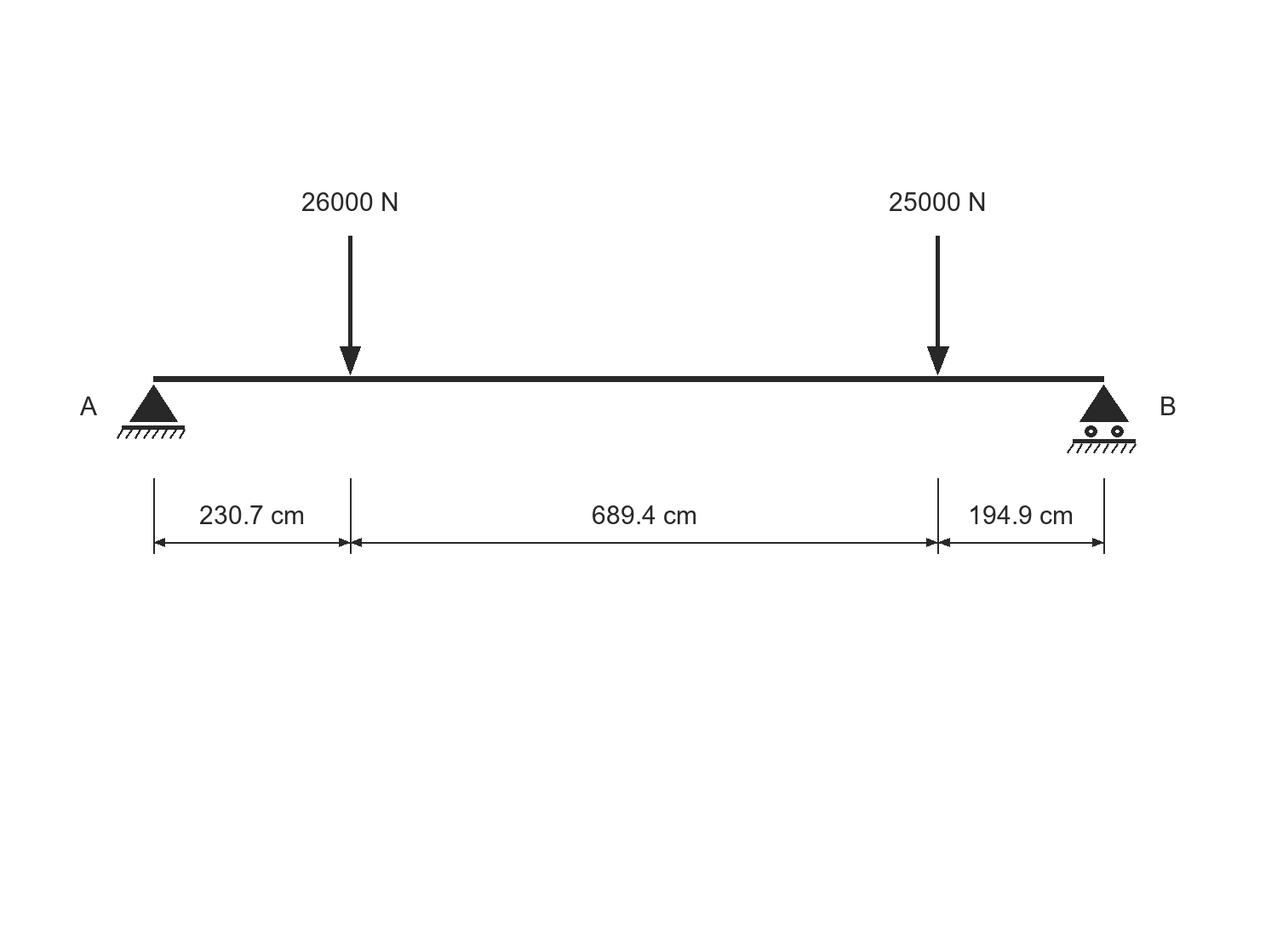pin_support: (117, 385, 186, 439)
point_load: (927, 236, 949, 375), (340, 236, 361, 375)
roller_support: (1067, 385, 1137, 454)
